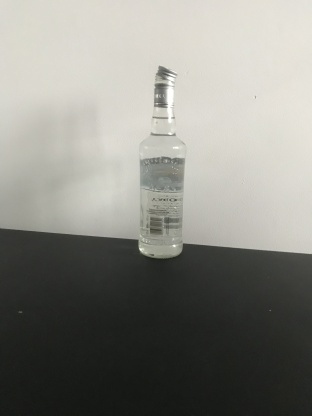nakretka: (152, 63, 178, 107)
